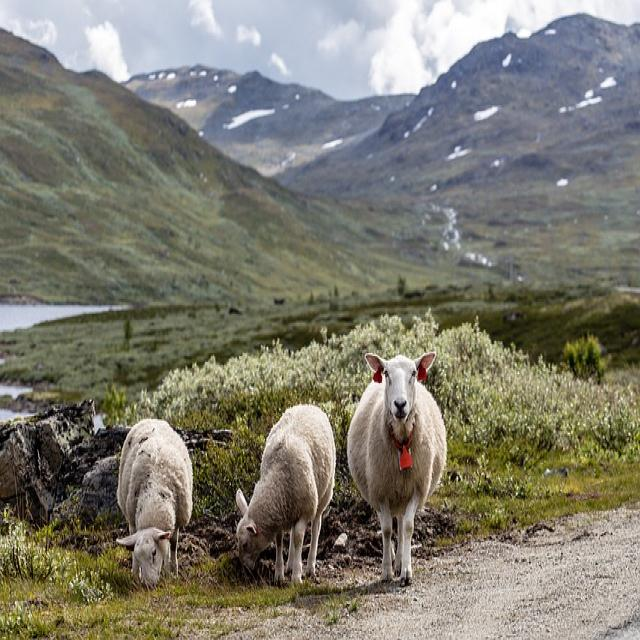goat: (349, 353, 446, 586), (236, 406, 336, 583), (118, 419, 192, 587)
